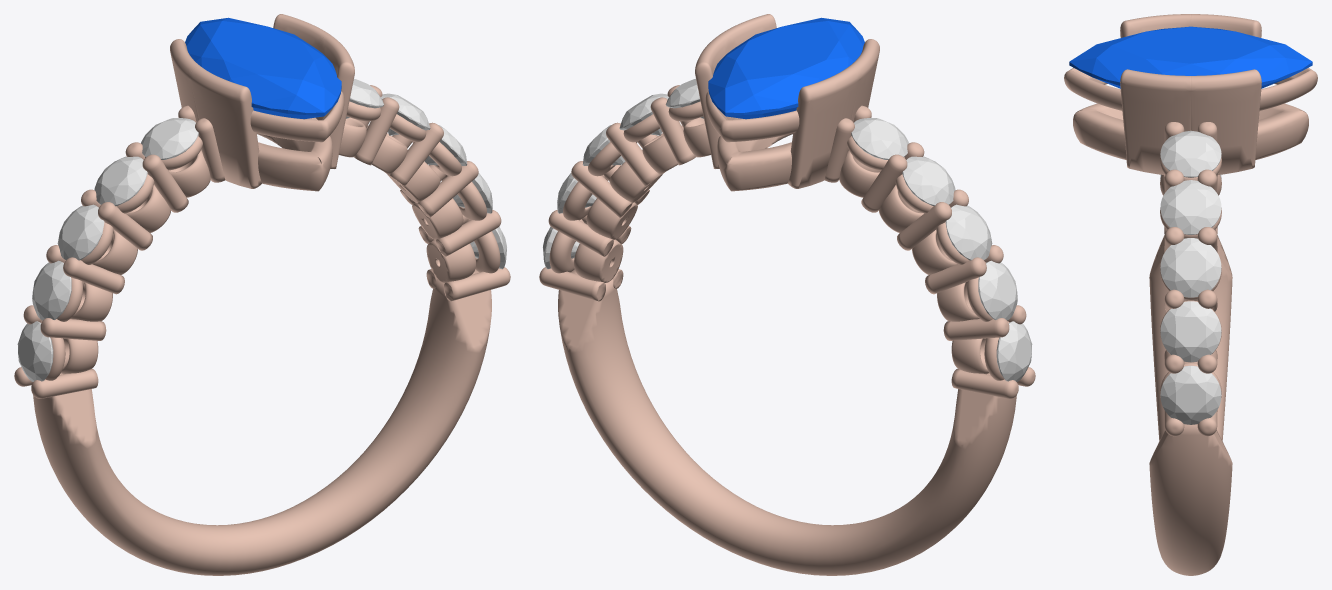
Rendered from bluesapphire-marquise-rosegold-halfmoonbezel-taperedband-11stone.glb.
3 views of the same model, side by side, from view 1: azimuth 30°, elevation 25°; view 2: azimuth 150°, elevation 25°; view 3: azimuth 270°, elevation 25° (orthographic).
Visible parts, largest first — view 1: metal.003, stone.002, dia.024, dia.025, dia.023, dia.026, dia.002, dia.030, dia.031; view 2: metal.003, stone.002, dia.024, dia.025, dia.023, dia.026, dia.002, dia.030, dia.031; view 3: metal.003, stone.002, dia.028, dia.029, dia.027, dia.030, dia.031.
Boxes of the visible parts, box(x1,y1,x2,y2) form: metal.003: box(14, 14, 510, 575); stone.002: box(185, 17, 341, 119); dia.024: box(57, 204, 104, 260); dia.025: box(94, 156, 147, 206); dia.023: box(32, 260, 71, 320); dia.026: box(141, 118, 198, 159); dia.002: box(17, 321, 53, 381); dia.030: box(381, 93, 430, 135); dia.031: box(346, 78, 384, 118); metal.003: box(539, 14, 1035, 575); stone.002: box(708, 17, 864, 119); dia.024: box(945, 204, 992, 260); dia.025: box(902, 156, 955, 206); dia.023: box(978, 260, 1017, 320); dia.026: box(851, 118, 908, 159); dia.002: box(996, 321, 1032, 381); dia.030: box(619, 93, 668, 135); dia.031: box(665, 78, 703, 118); metal.003: box(1064, 14, 1317, 575); stone.002: box(1069, 26, 1312, 88); dia.028: box(1160, 301, 1221, 362); dia.029: box(1160, 238, 1221, 297); dia.027: box(1160, 365, 1221, 424); dia.030: box(1160, 180, 1221, 234); dia.031: box(1160, 130, 1221, 177).
Size of the model in its own units: 22.1 by 22.93 by 10.4.
